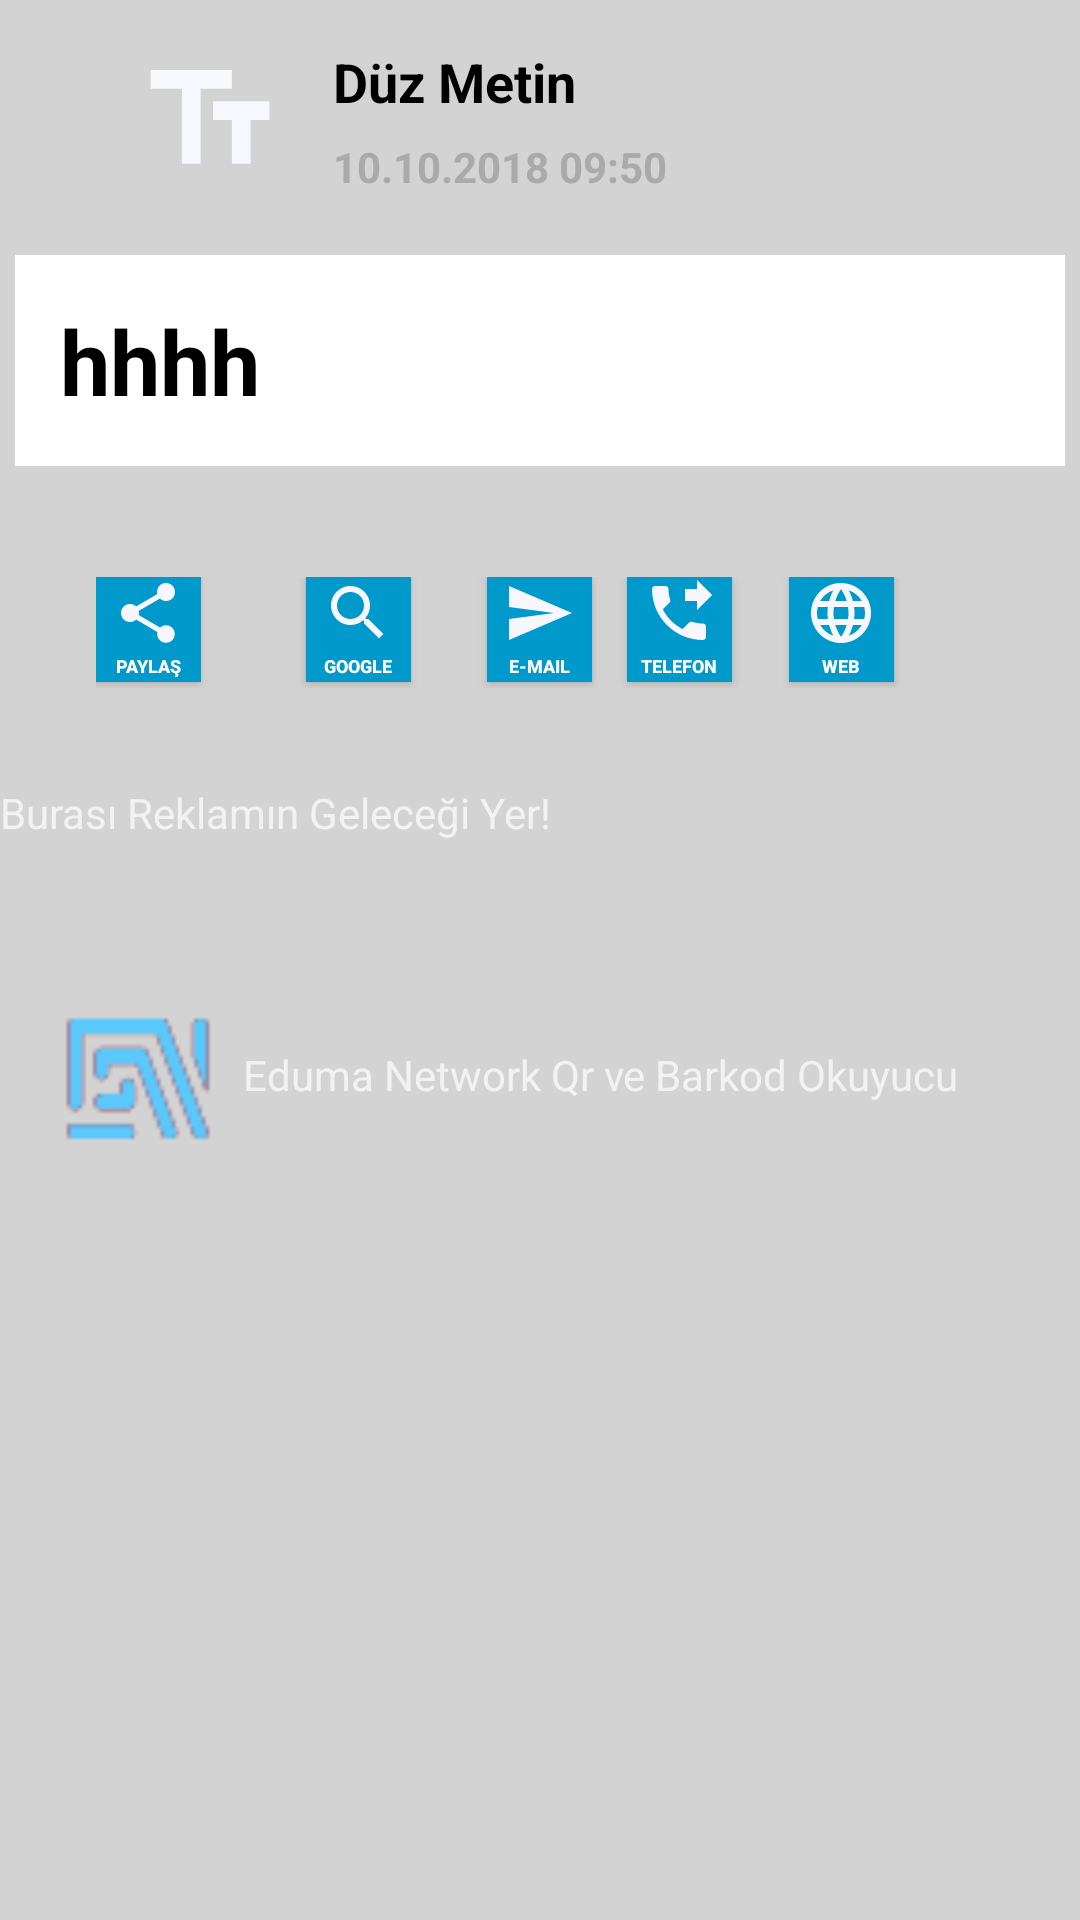

Screen size 1080×1920. Icon name, then its box in pixels as (x1, y1, x2, y2):
text result: (151, 70, 269, 164)
